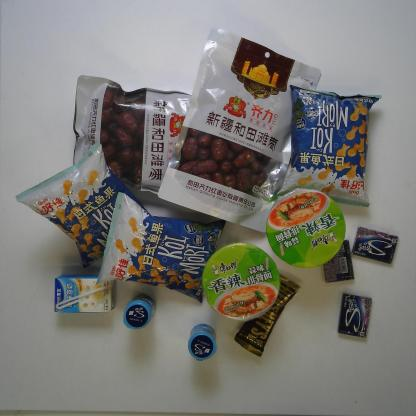Chocolate: (234, 272, 302, 358)
Dried Food: (158, 24, 324, 234), (72, 74, 194, 196)
Gum: (351, 224, 399, 265), (336, 292, 373, 339), (321, 237, 358, 283), (122, 293, 158, 331), (186, 323, 218, 362)
Instant Noodles: (263, 186, 349, 270), (200, 240, 283, 323)
Milk: (53, 274, 117, 314)
Puffed Food: (14, 141, 150, 269), (96, 192, 228, 304), (276, 84, 382, 209)
